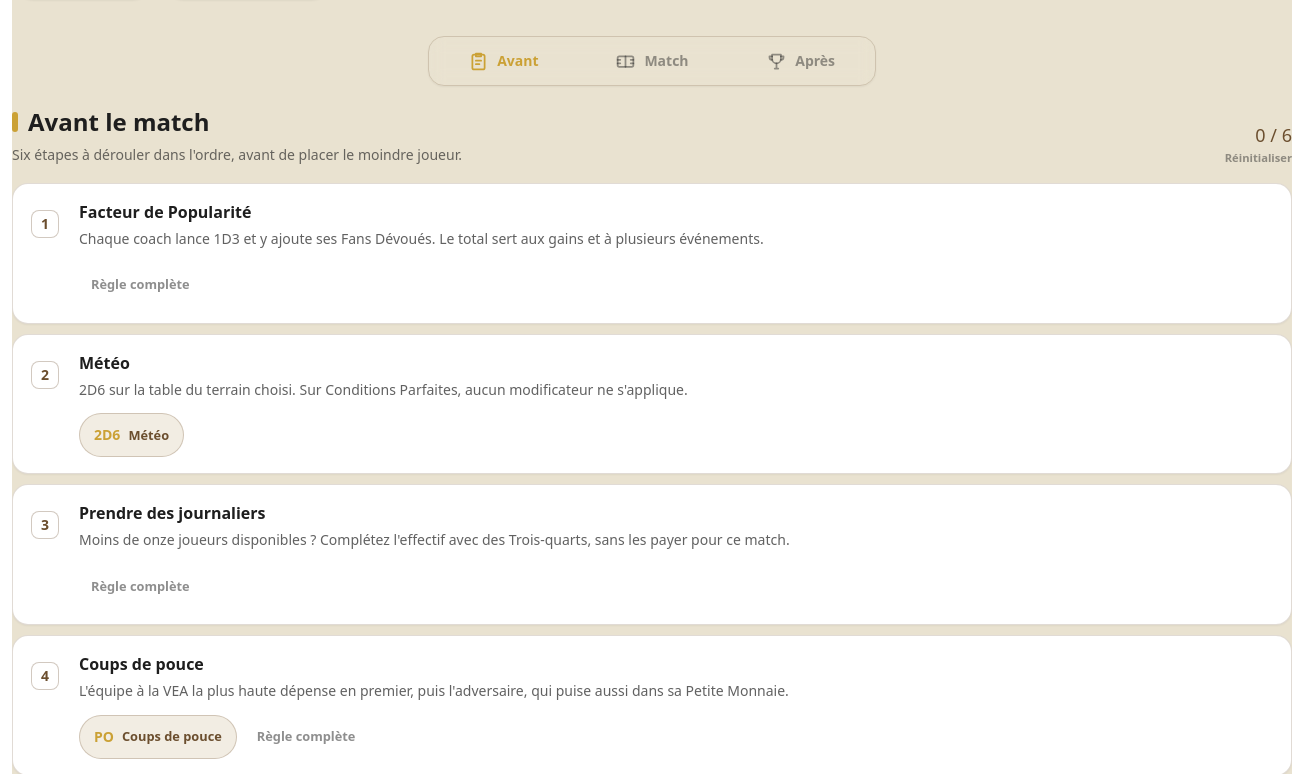
AideDeJeuClient › garde des checklists distinctes pour l'avant et l'après-match
The width and height of the screenshot is (1304, 774).
(page scrolled)
Click the button named "Cocher".
click(45, 375)  # box [23,353,67,397]
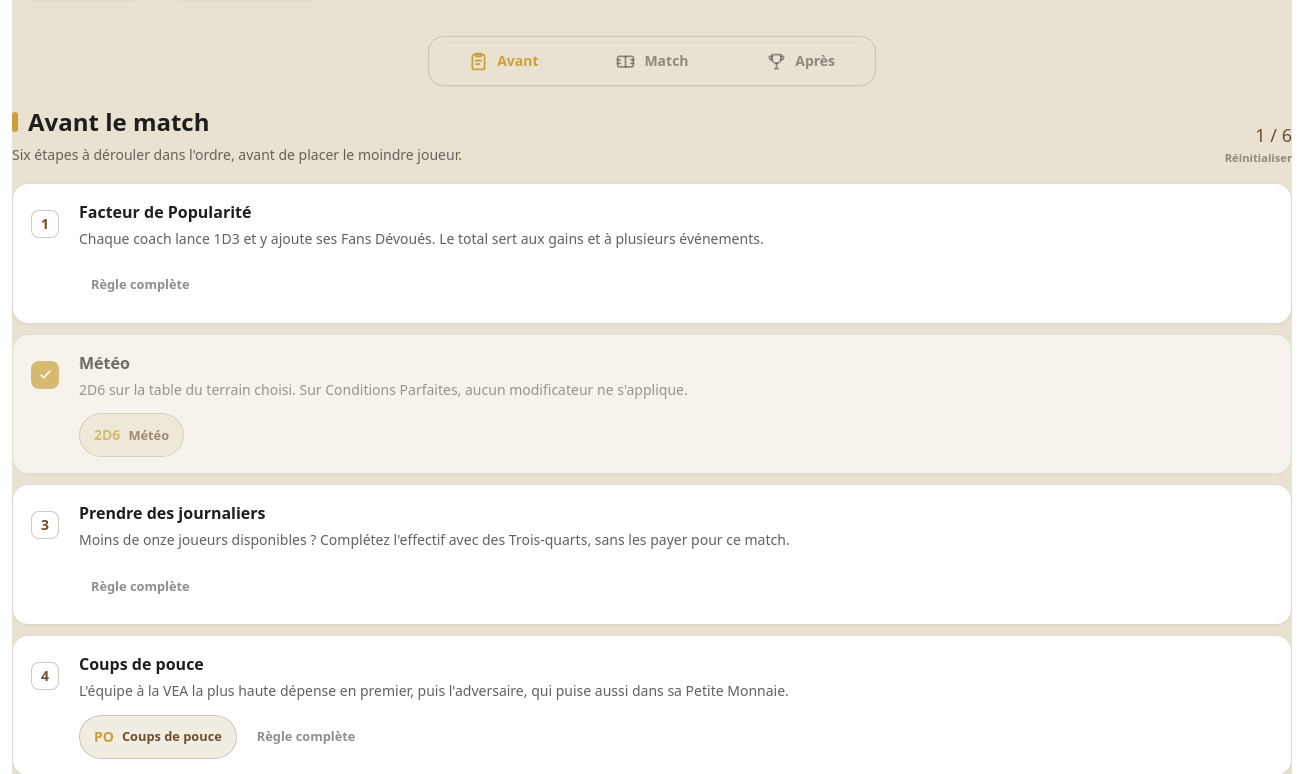
Click the button with test id "phase-tab-apres".
click(801, 61)  # box [726,37,875,85]
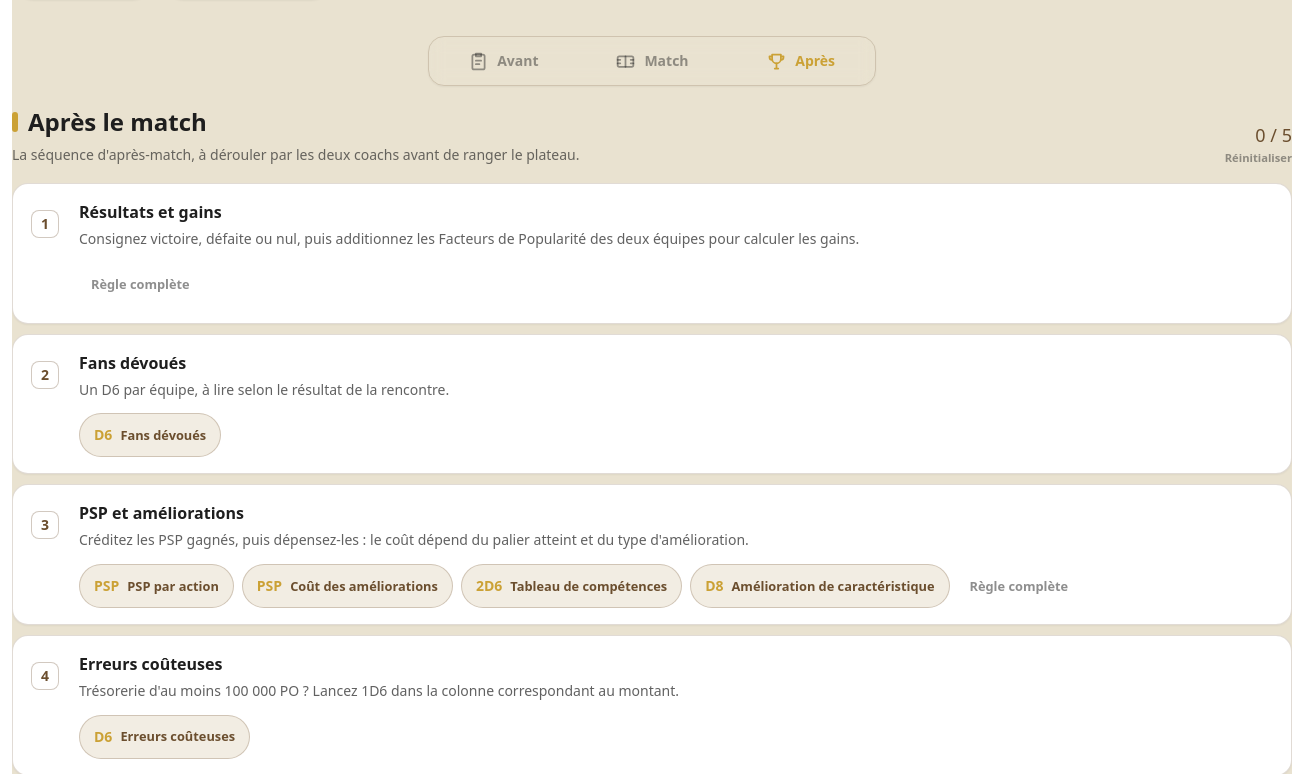
Expected: the text "0 / 5" is shown, [1255,126,1292,144]
